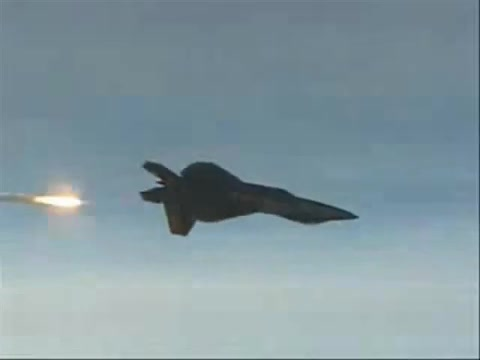aeroplane: (139, 157, 361, 239)
